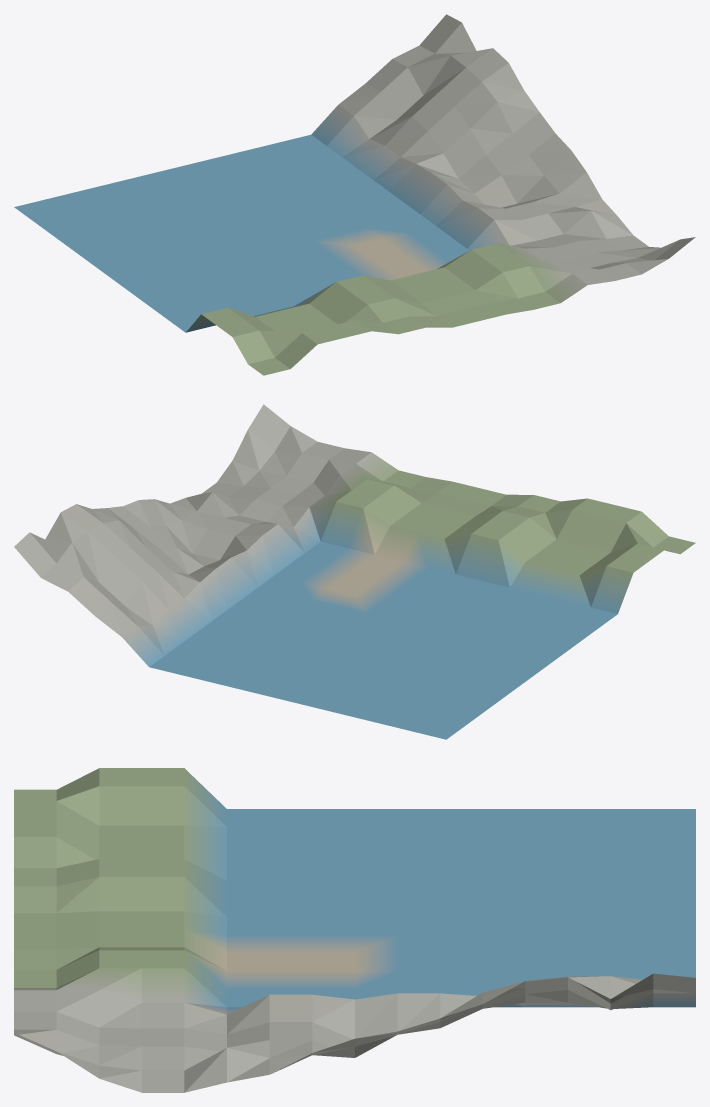
The picture shows the model from 3 angles, top to bottom: view 1: azimuth 30°, elevation 25°; view 2: azimuth 150°, elevation 25°; view 3: azimuth 270°, elevation 25°; orthographic projection. The views are drawn at different scales.
Bounding box in the file's own units: 32 × 6.41 × 32.
